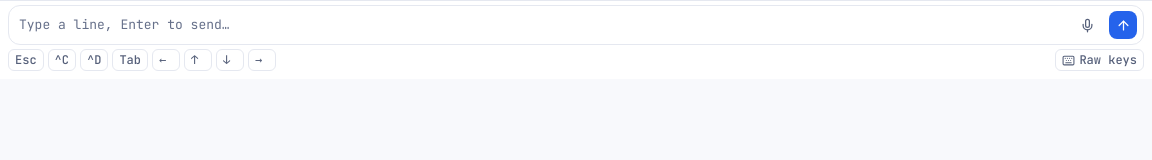
dictation in the compose bar › explains a blocked microphone
Click the button named "Dictate": (1087, 25) [1073,11,1101,39]
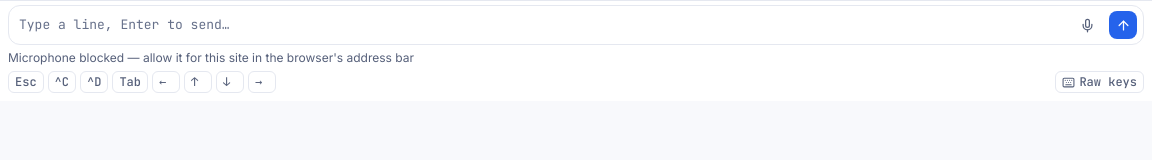
Expected: the message shows "Microphone blocked", [8,50,414,65]
